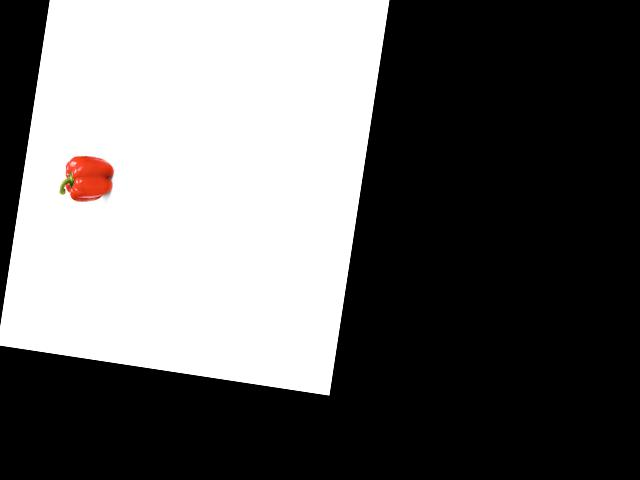bell_pepper: (57, 151, 117, 206)
